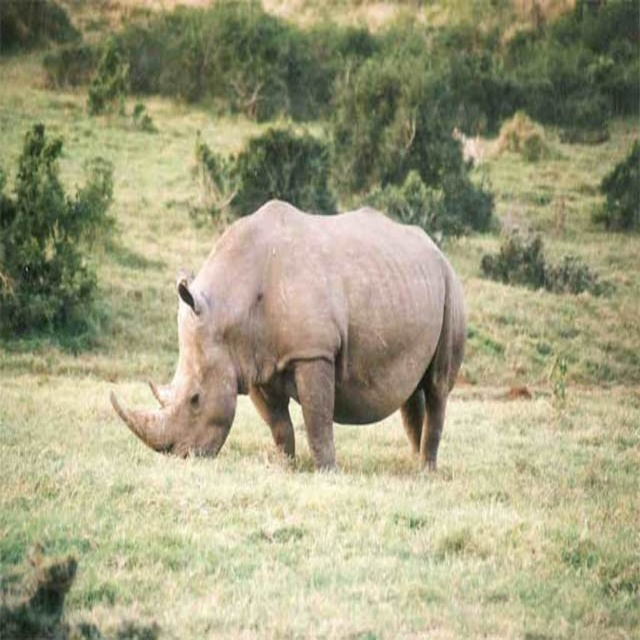Rhinoceros: (108, 195, 466, 486)
